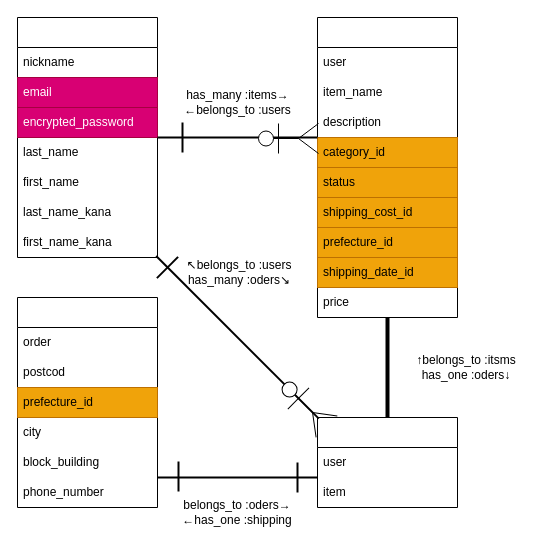
Some shapes in this 559 by 545 pixel diagram are drawn without their labels. Here are the shapes that lost their labels. From the top down, the box of each, then its label:
(16, 16, 158, 258): users
(316, 16, 458, 318): items
(16, 296, 158, 508): shipping
(316, 416, 458, 508): oders
